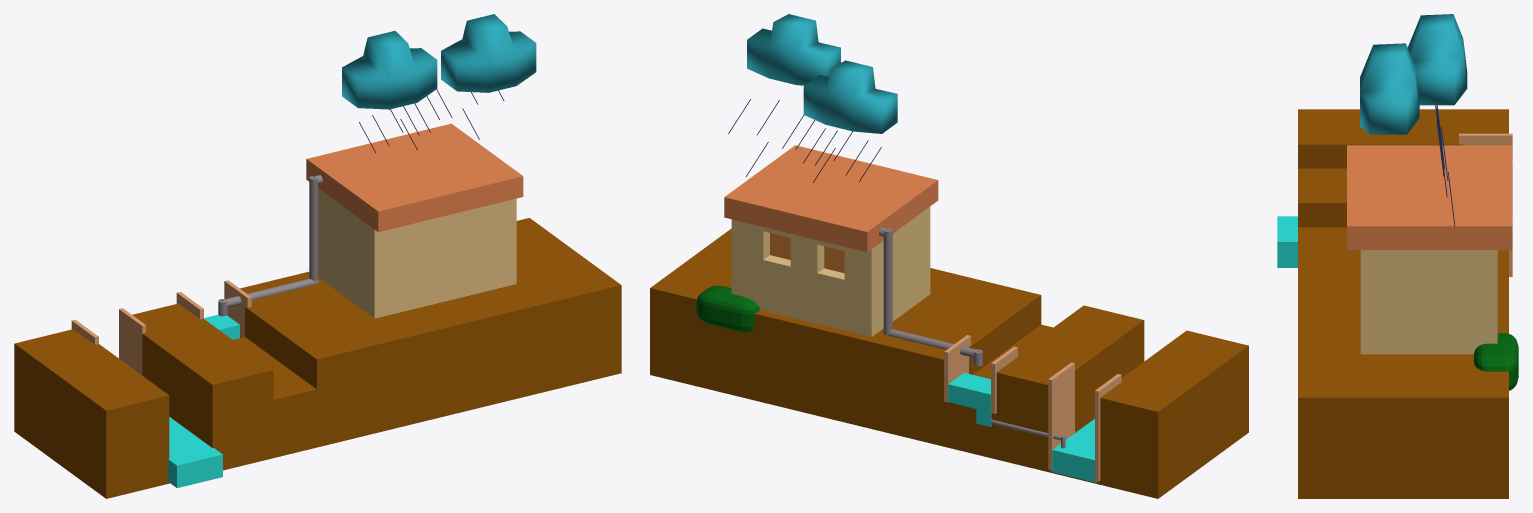
The model's file is Process of rainwater harvesting_Rahul_Deshmukh.gltf.
The picture shows the model from 3 angles, left to right: view 1: azimuth 30°, elevation 25°; view 2: azimuth 150°, elevation 25°; view 3: azimuth 270°, elevation 25°; orthographic projection. The views are drawn at different scales.
Parts seen in each view (by area): view 1: Cube, Cube.005, Cube.006, Cloud1, Cube.009, Cylinder.004, Cube.004, Cube.001; view 2: Cube, Cube.005, Cube.006, Cloud1, Cube.004, Grass, Cylinder.004, Cube.009, Cube.001, Cube.007, Plane.001; view 3: Cube, Cube.006, Cube.005, Cloud1, Grass, Cube.009, Cube.004, Cylinder.
Part boxes in pixels (x1,y1,x2,y2): Cube: (14, 218, 621, 498); Cube.005: (318, 188, 516, 318); Cube.006: (306, 123, 523, 232); Cloud1: (342, 14, 536, 109); Cube.009: (168, 417, 222, 488); Cylinder.004: (218, 175, 322, 316); Cube.004: (71, 308, 145, 375); Cube.001: (176, 280, 251, 337); Cube: (650, 228, 1248, 498); Cube.005: (731, 206, 930, 337); Cube.006: (724, 145, 938, 252); Cloud1: (747, 14, 897, 133); Cube.004: (1048, 362, 1121, 481); Grass: (696, 285, 759, 332); Cylinder.004: (879, 227, 982, 366); Cube.009: (1051, 419, 1097, 482); Cube.001: (944, 335, 1017, 413); Cube.007: (948, 372, 990, 412); Plane.001: (770, 233, 844, 273); Cube: (1298, 109, 1508, 498); Cube.006: (1347, 145, 1512, 249); Cube.005: (1360, 250, 1497, 354); Cloud1: (1360, 14, 1467, 134); Grass: (1474, 333, 1518, 390); Cube.009: (1277, 216, 1297, 267); Cube.004: (1459, 133, 1512, 189); Cylinder: (1435, 105, 1455, 226).
Size of the model in its own units: 37.18 by 23.75 by 13.15.
